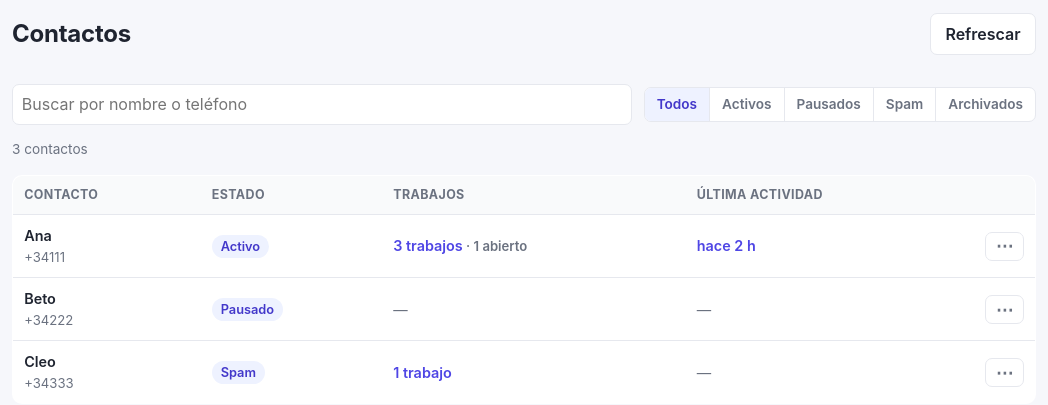
el buscador filtra por nombre y por teléfono, ignorando el formato
The image size is (1048, 405).
Expected: the text "Ana" is shown, 24,227 -> 52,244
Type "bet" into the search field named "Buscar contactos".
click(322, 104); type("bet")  # box 12,84 -> 632,125
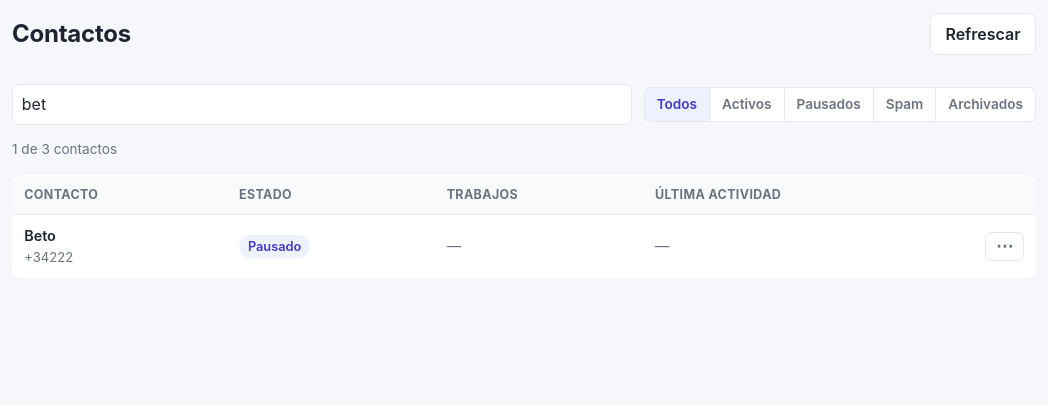
Expected: the text "Beto" is shown, 24,227 -> 56,244
Now the text "Ana" is gone
Now the text "1 de 3 contactos" is shown, box 12,141 -> 117,157
# Teléfono con separadores: la búsqueda los ignora.
Replace the text in the search field named "Buscar contactos" with "+34 333" at [322, 104], box 12,84 -> 632,125
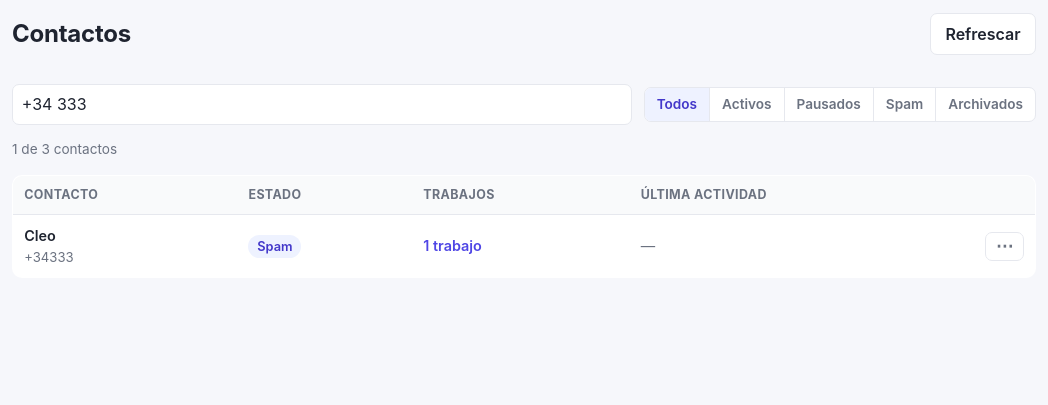
Now the text "Cleo" is shown, box 24,227 -> 56,244
Now the text "Beto" is gone
